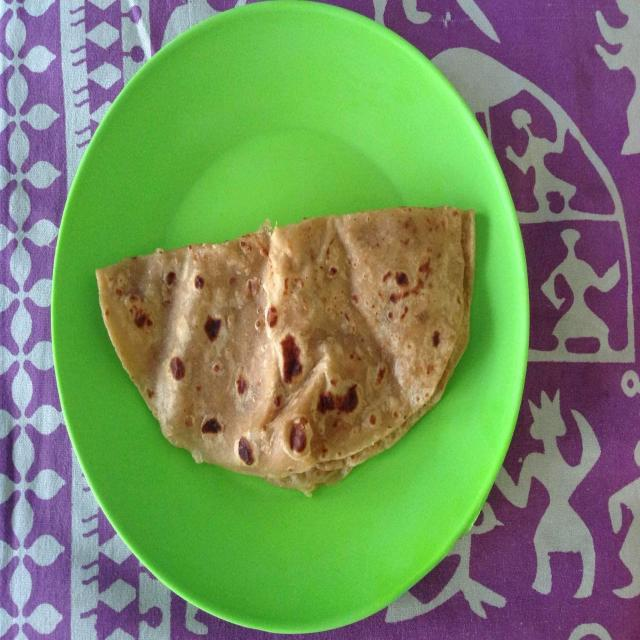roti: (95, 199, 474, 490)
